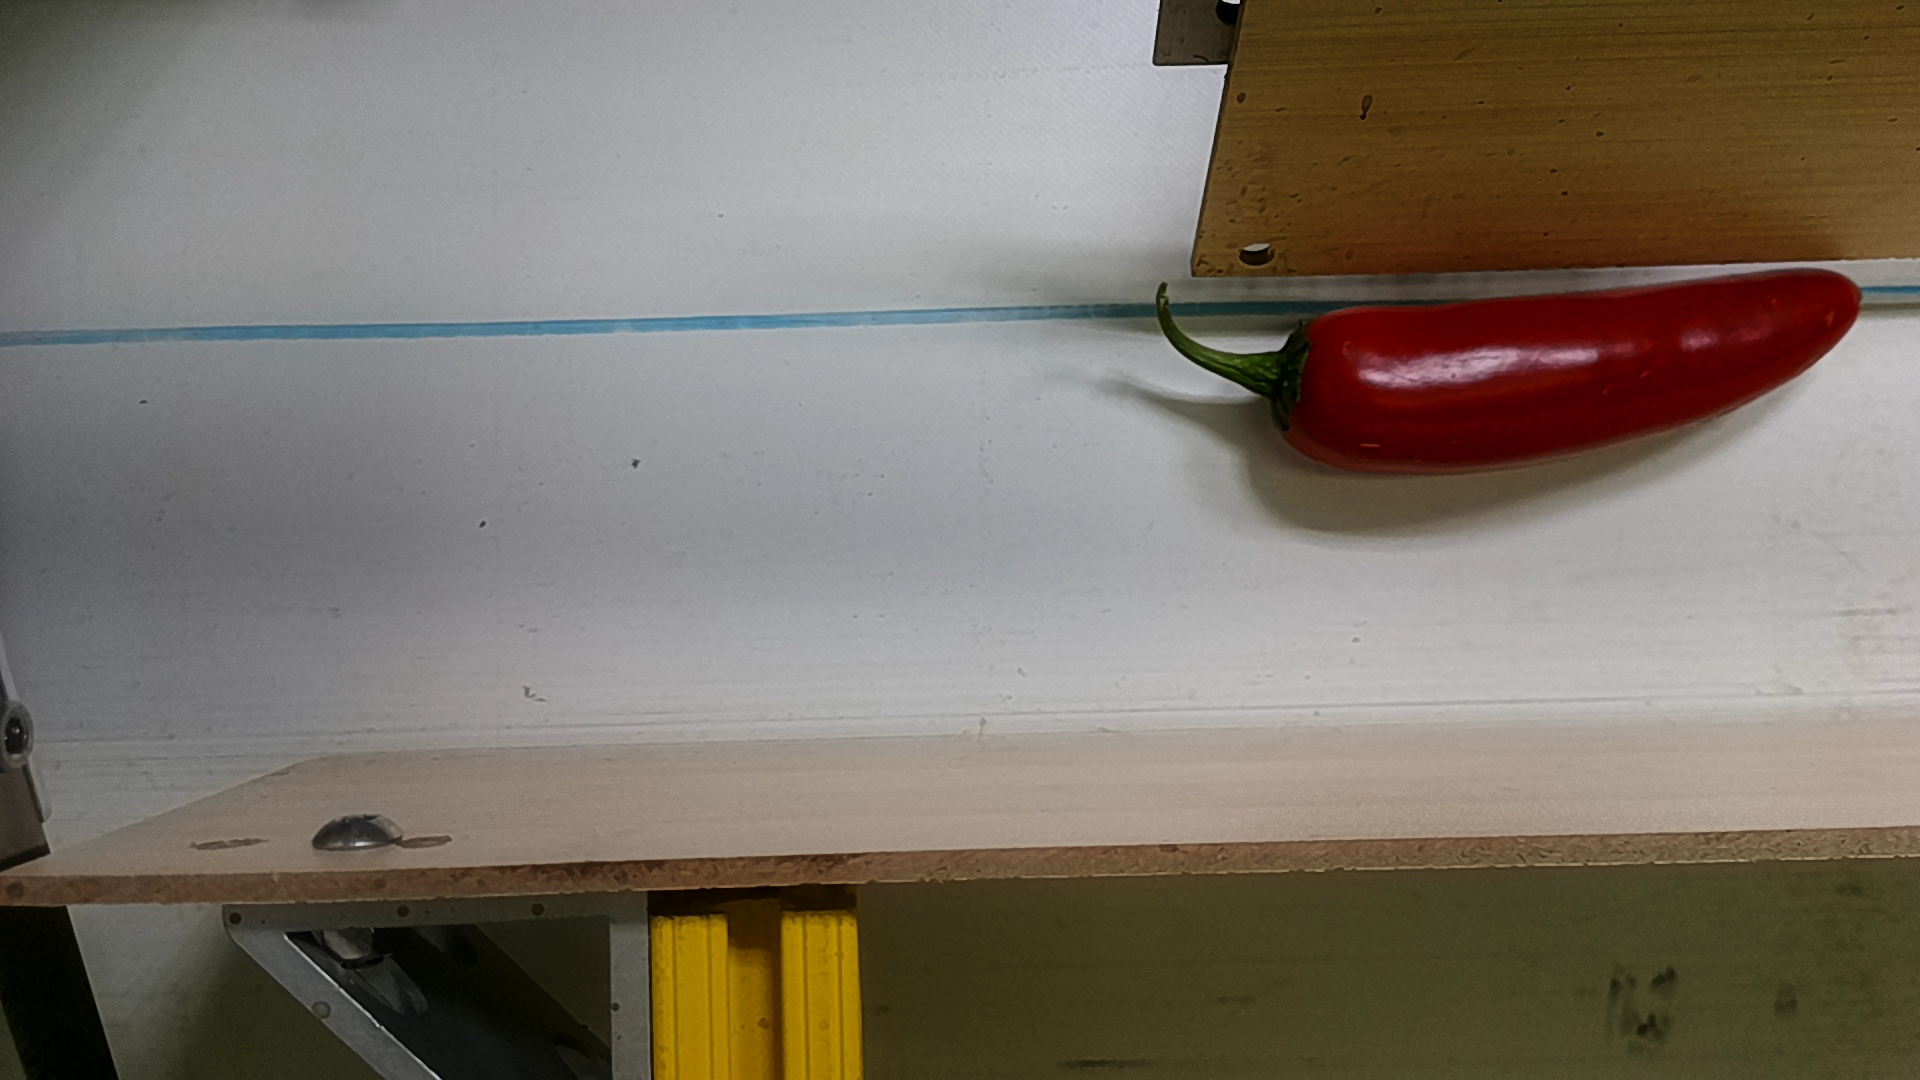Cut Point: (1251, 305, 1364, 475)
